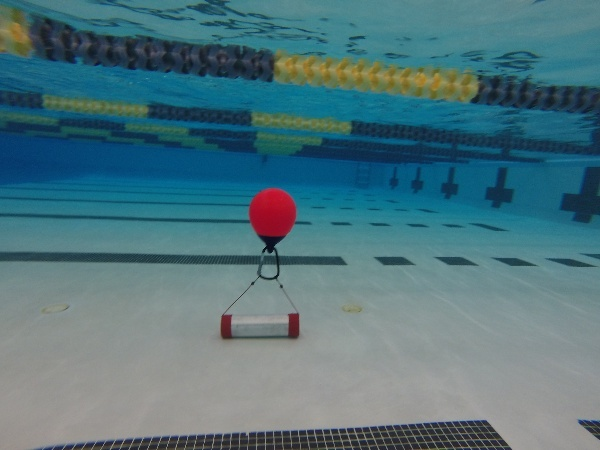buoy_red: (243, 184, 300, 255)
